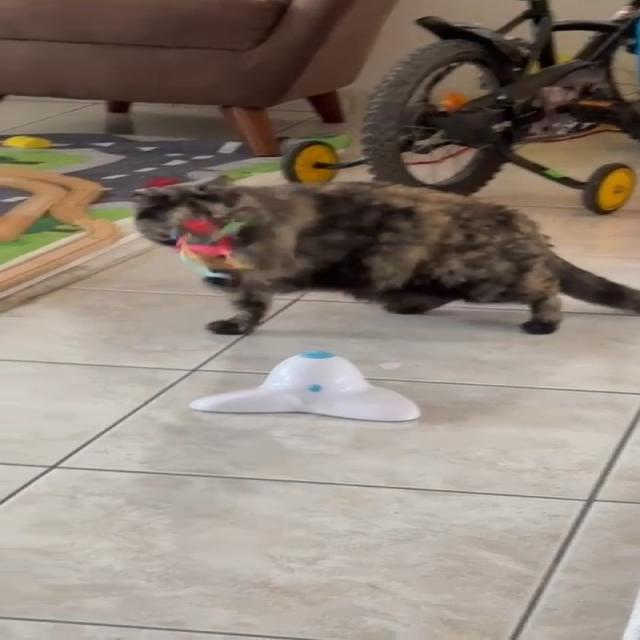authorized: (128, 175, 639, 336)
